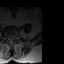CCS_normal: (10, 36, 12, 45)
LFS_normal: (13, 35, 16, 41)
LLS_normal: (11, 36, 13, 43)
RFS_stenosis: (6, 35, 8, 40)
RLS_normal: (8, 35, 10, 43)
